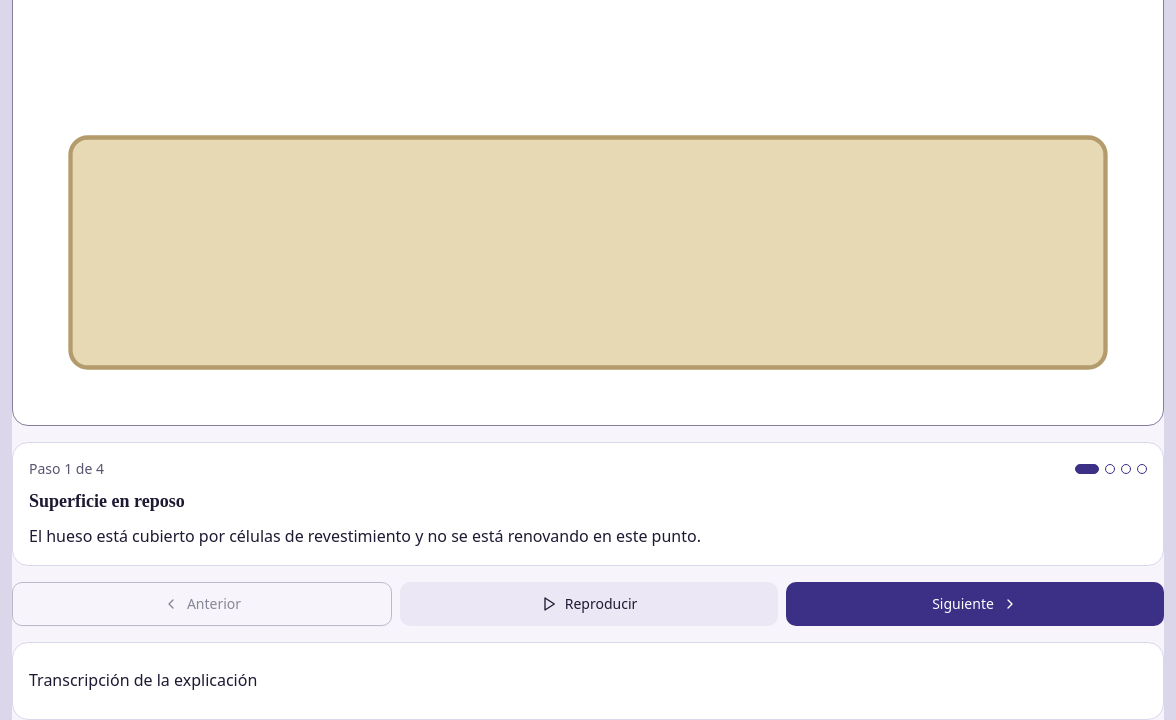
Scenario: animación: reproducción automática › avanzar a mano mientras reproduce reprograma la espera (sin saltos dobles)
(page scrolled)
Click the button with test id "reproducir": (589, 604) top-left (400, 582), bottom-right (778, 626)
Wait 4000 ms
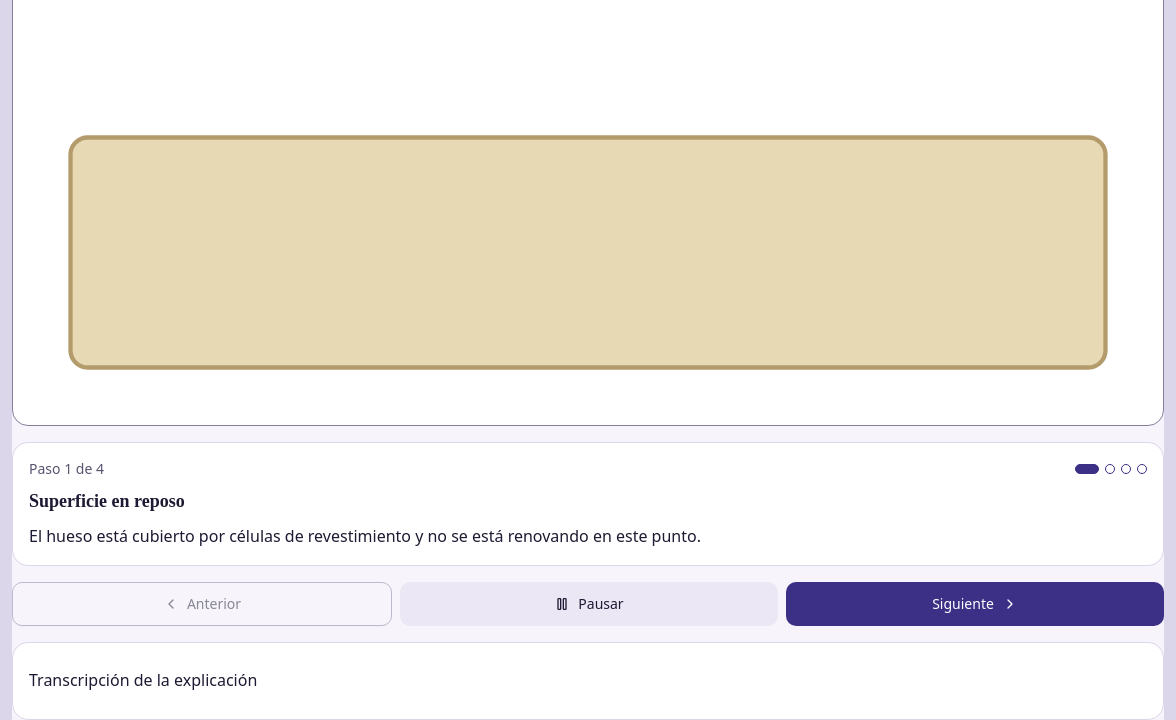
Click the button with test id "siguiente": (975, 604) top-left (786, 582), bottom-right (1164, 626)
Wait 4000 ms
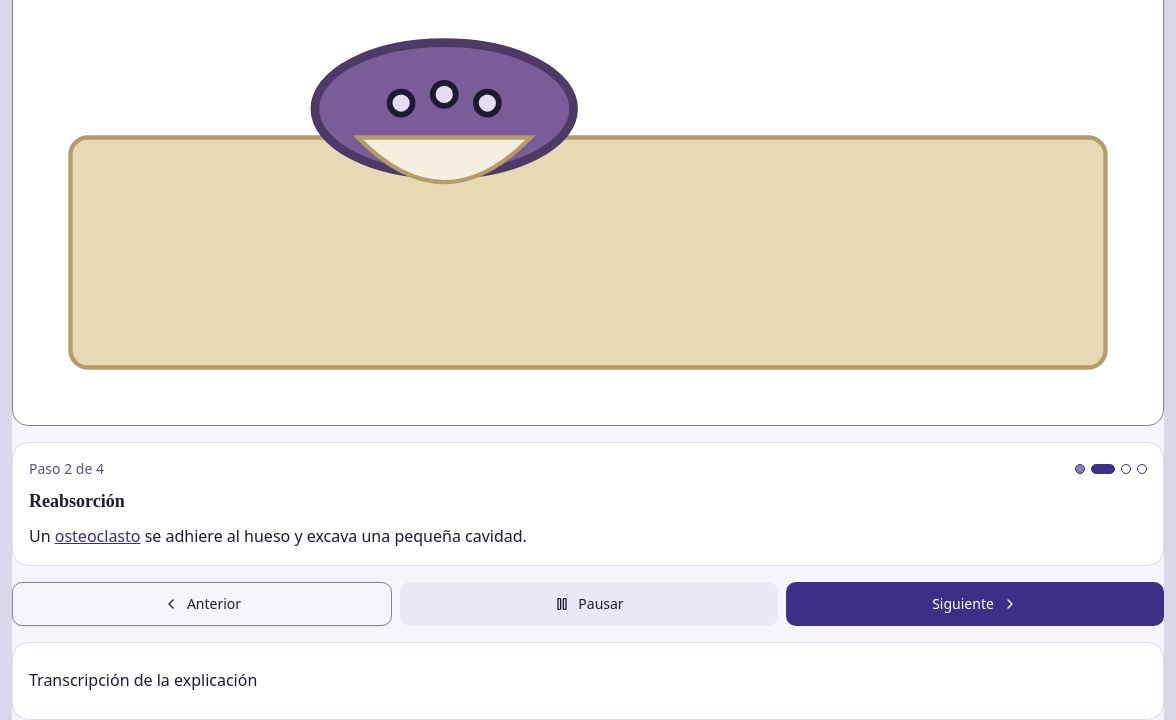
Expected: the text with test id "contador-paso" reads "Paso 2 de 4", top-left (29, 459), bottom-right (104, 478)
